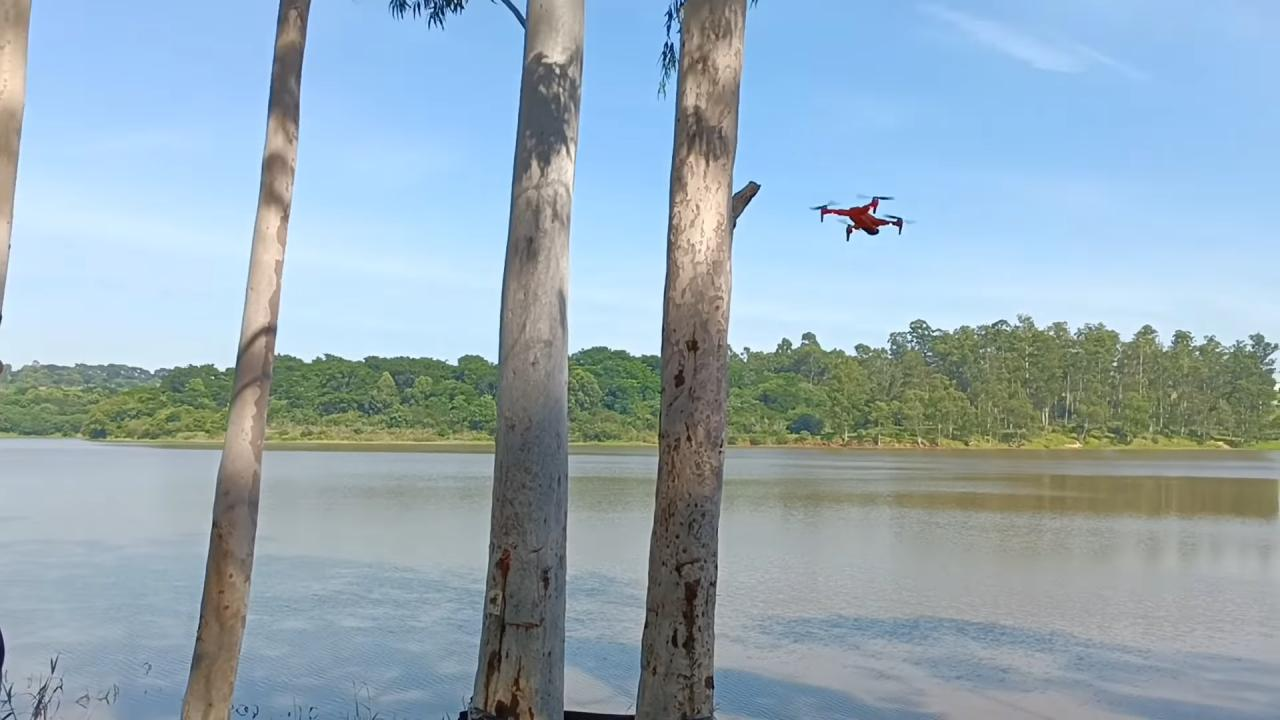Drone: (794, 186, 917, 253)
